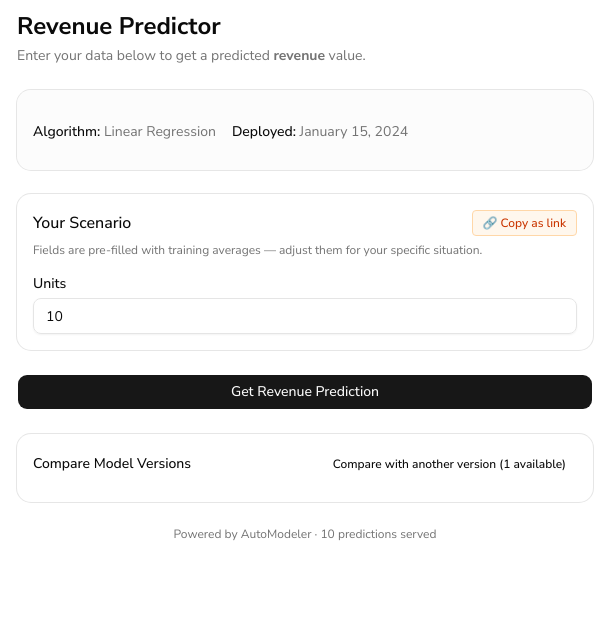
Test: CompareModelsCard — interaction › collapses the panel when toggle clicked again
The image size is (611, 635).
Expected: the text "Units" is shown, left=33, top=274, right=66, bottom=293
Click the button with test id "compare-toggle": (449, 464) left=322, top=450, right=577, bottom=478
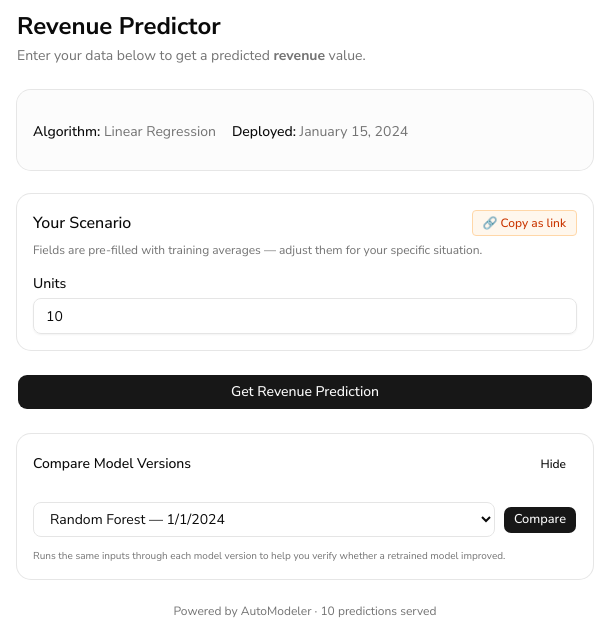
Now the dropdown with test id "compare-select" is shown, box left=33, top=502, right=495, bottom=537
Click the button with test id "compare-toggle": (553, 464) left=530, top=450, right=577, bottom=478
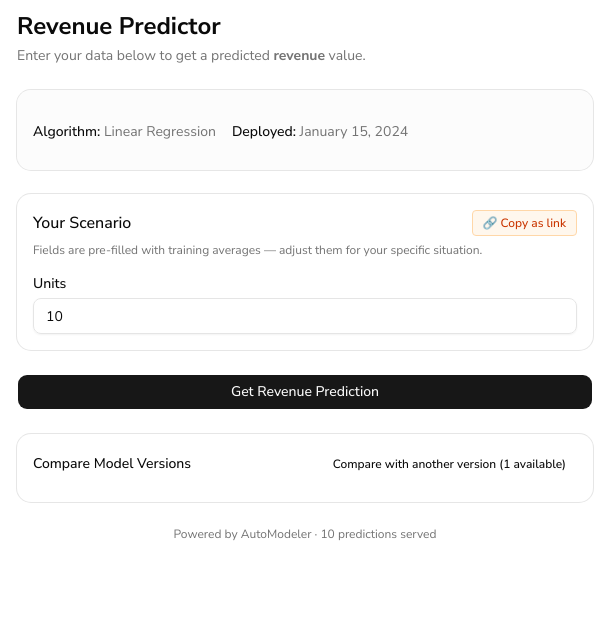
Now the dropdown with test id "compare-select" is gone
